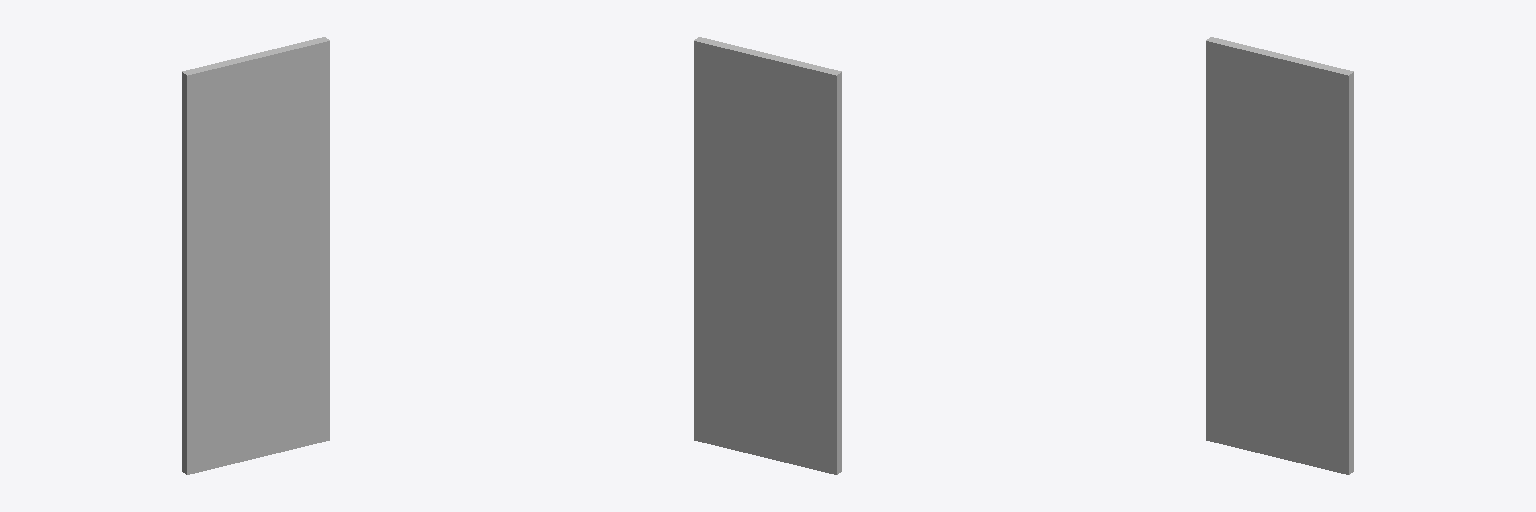
The model's file is Wall3m.obj.
3 views of the same model, side by side, from view 1: azimuth 30°, elevation 25°; view 2: azimuth 150°, elevation 25°; view 3: azimuth 330°, elevation 25° (orthographic).
Parts seen in each view (by area): view 1: Wall3m; view 2: Wall3m; view 3: Wall3m.
Part boxes in pixels (left/top/right/bottom): Wall3m: left=182, top=37, right=329, bottom=474; Wall3m: left=694, top=37, right=841, bottom=474; Wall3m: left=1206, top=37, right=1353, bottom=474.
Bounding box in the file's own units: 3 × 8 × 0.2.